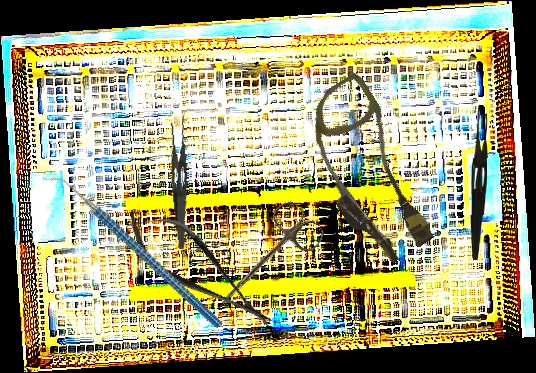Cannula: (282, 70, 454, 273)
Chopper: (40, 134, 224, 368)
Dressing Forceps: (164, 115, 200, 250), (469, 112, 489, 261)
Iris Scissors: (204, 197, 328, 324)
Micro Scissor: (114, 193, 286, 348)
